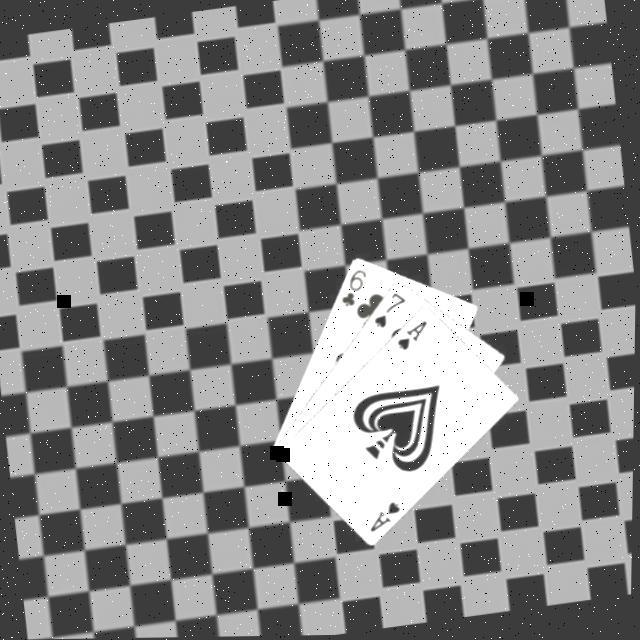6C: (336, 263, 375, 309)
7S: (369, 286, 415, 332)
AS: (366, 496, 408, 534), (393, 315, 435, 352)
